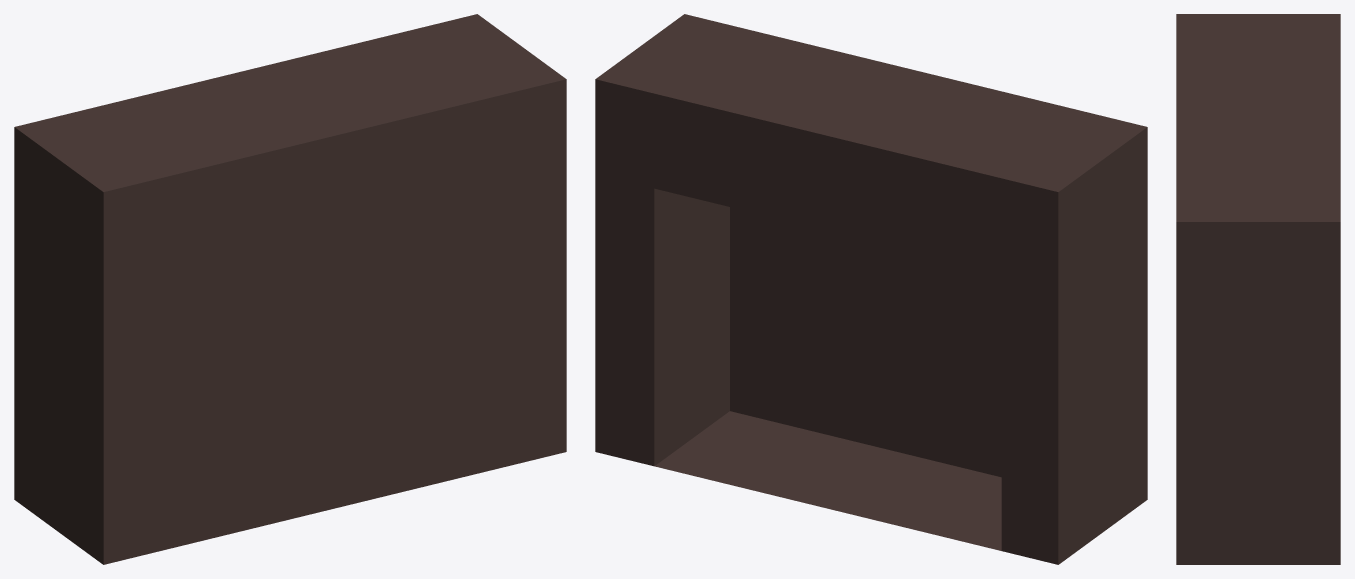
Rendered from furnitures.fbx_stove.fbx.
3 renders of one model, left to right at view 1: azimuth 30°, elevation 25°; view 2: azimuth 150°, elevation 25°; view 3: azimuth 270°, elevation 25°, orthographic. The views are drawn at different scales.
Parts seen in each view (by area): view 1: 큐브.001; view 2: 큐브.001; view 3: 큐브.001.
Boxes of the visible parts, x1,y1,x2,y2 form: 큐브.001: (14, 14, 566, 564); 큐브.001: (595, 14, 1147, 564); 큐브.001: (1176, 14, 1340, 564).
Bounding box in the file's own units: 156 × 120 × 52.
